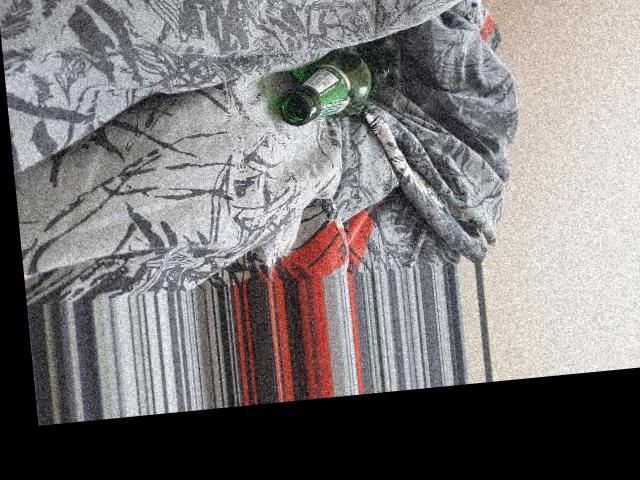beer: (273, 44, 396, 124)
